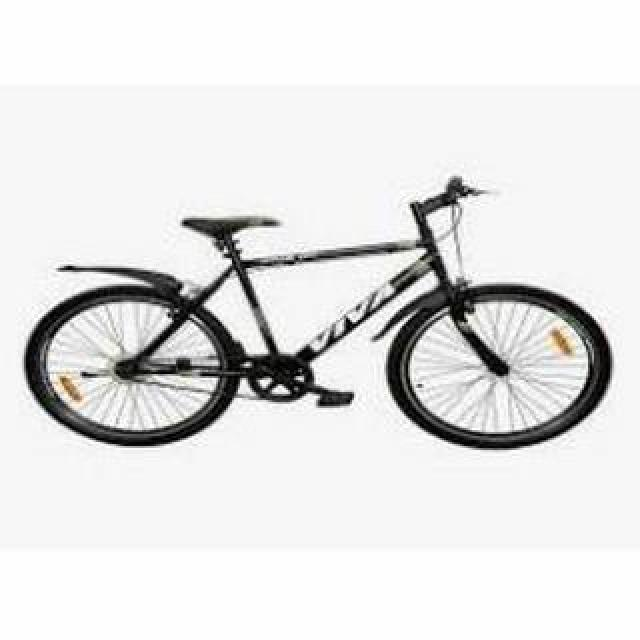Person: (26, 173, 614, 449)
